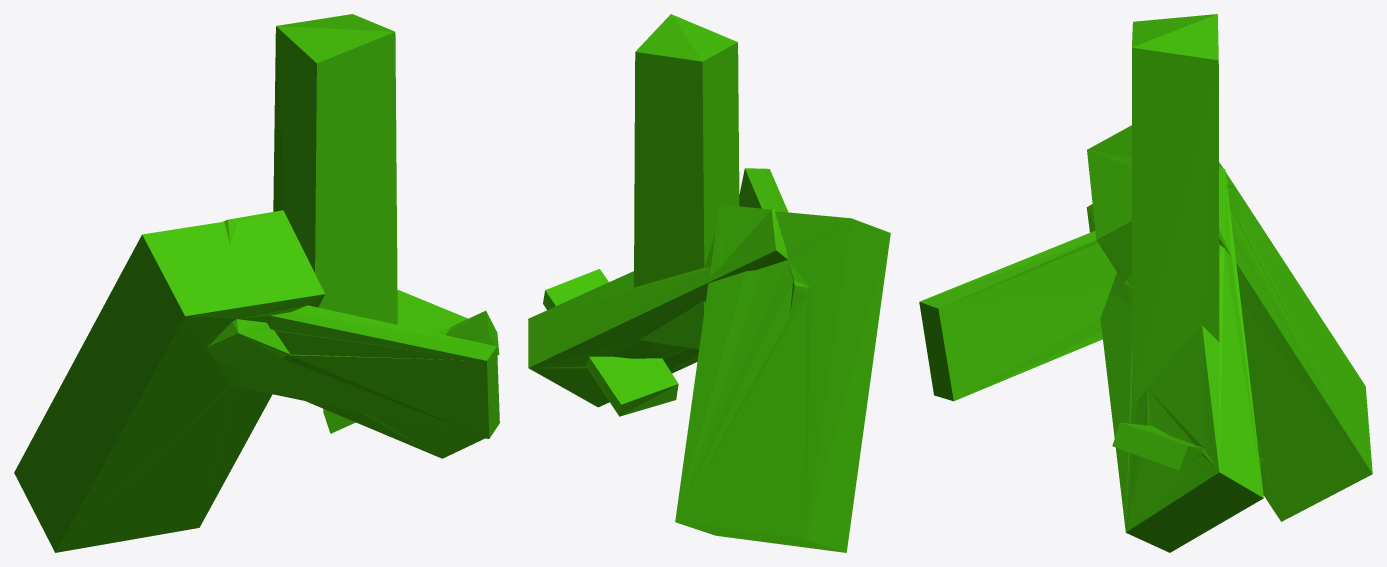
3 views of the same model, side by side, from view 1: azimuth 30°, elevation 25°; view 2: azimuth 150°, elevation 25°; view 3: azimuth 270°, elevation 25° (orthographic). The views are drawn at different scales.
Parts seen in each view (by area): view 1: 836_Cube.3372; view 2: 836_Cube.3372; view 3: 836_Cube.3372.
Part boxes in pixels (x1,y1,x2,y2): 836_Cube.3372: (14, 14, 499, 552); 836_Cube.3372: (528, 14, 890, 552); 836_Cube.3372: (919, 14, 1372, 552).
Bounding box in the file's own units: 14.8 × 18.51 × 14.17.
